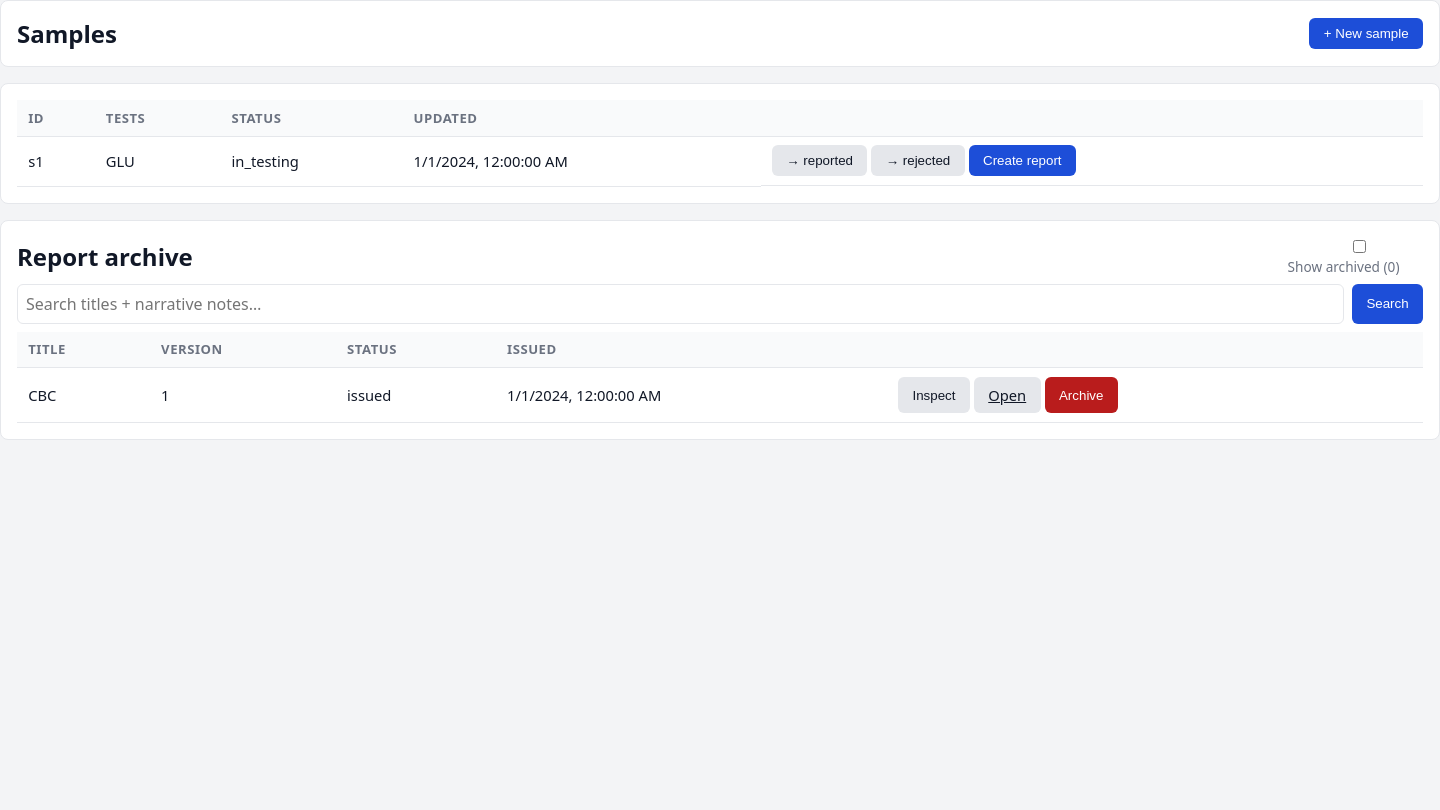
Test: LabPage › opens the archive modal and rejects empty note
Click the button "Archive".
click(1081, 395)  # box x1=1045 y1=377 x2=1118 y2=413
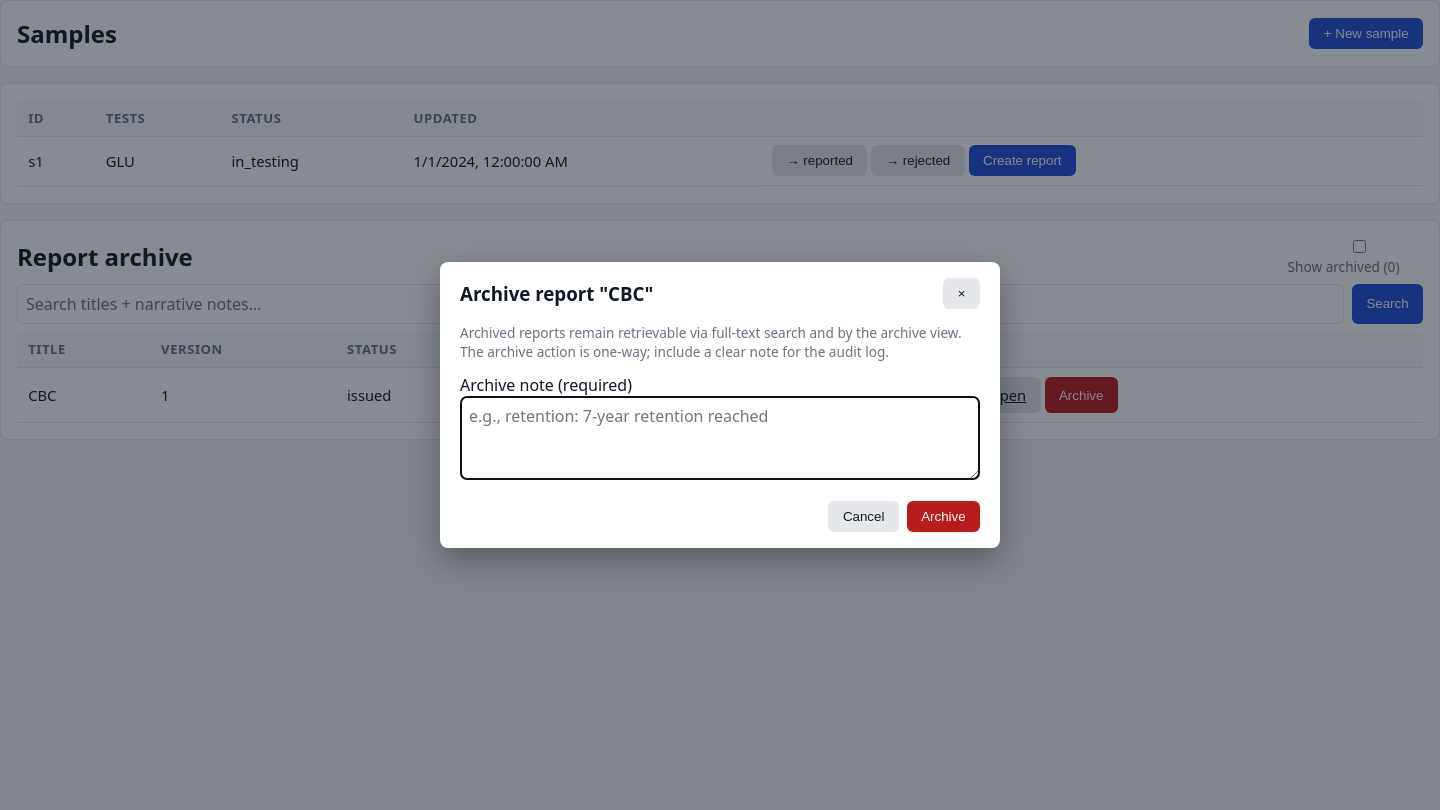
Expected: the button "Archive" is disabled, x1=907 y1=501 x2=980 y2=532
